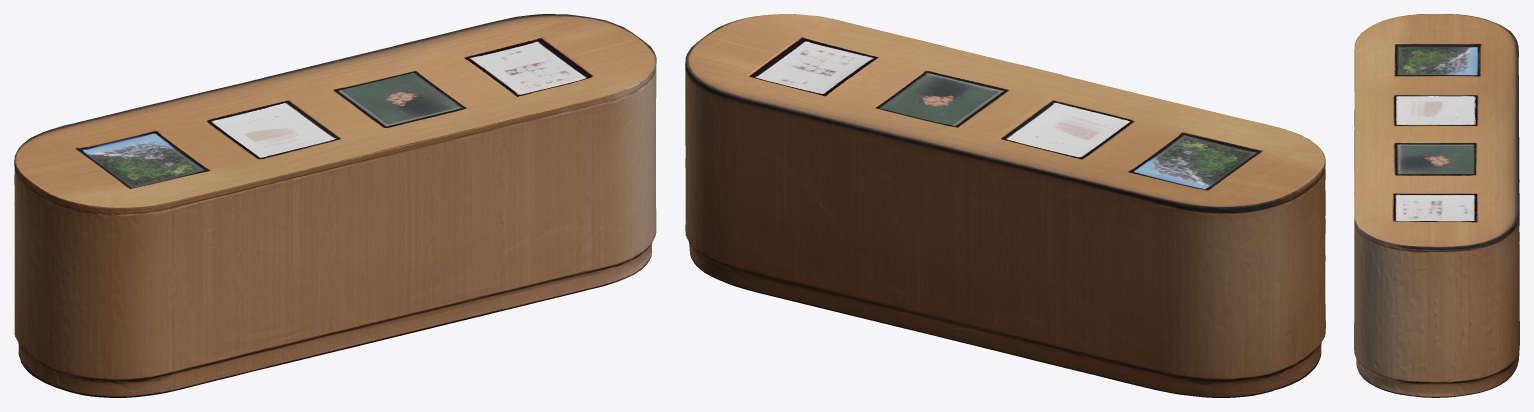
The picture shows the model from 3 angles, left to right: view 1: azimuth 30°, elevation 25°; view 2: azimuth 150°, elevation 25°; view 3: azimuth 270°, elevation 25°; orthographic projection. The views are drawn at different scales.
Parts seen in each view (by area): view 1: world; view 2: world; view 3: world.
Part boxes in pixels (x1,y1,x2,y2): world: (14,14,656,397); world: (685,14,1325,397); world: (1354,14,1519,397).
Bounding box in the file's own units: 1 × 0.3053 × 0.3015.
1 material, 1 textured.
